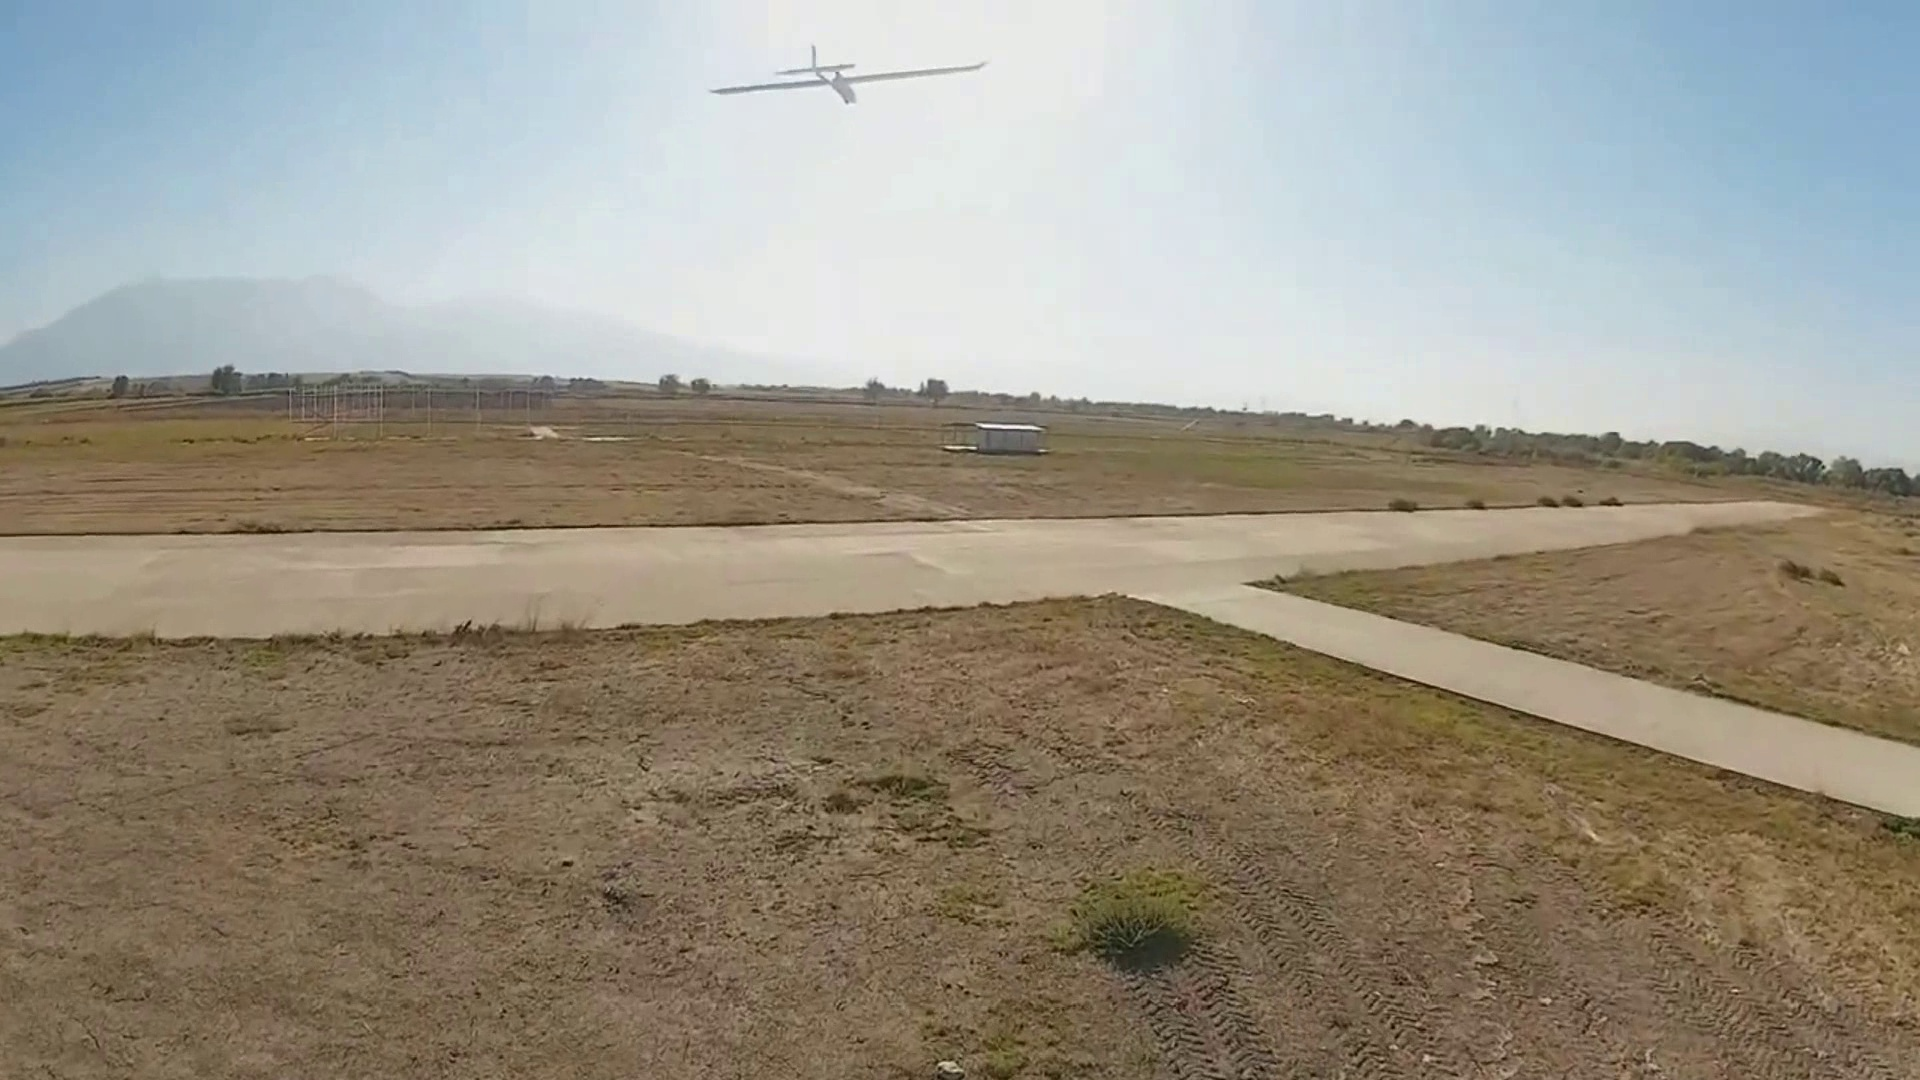airplane: (709, 45, 988, 105)
